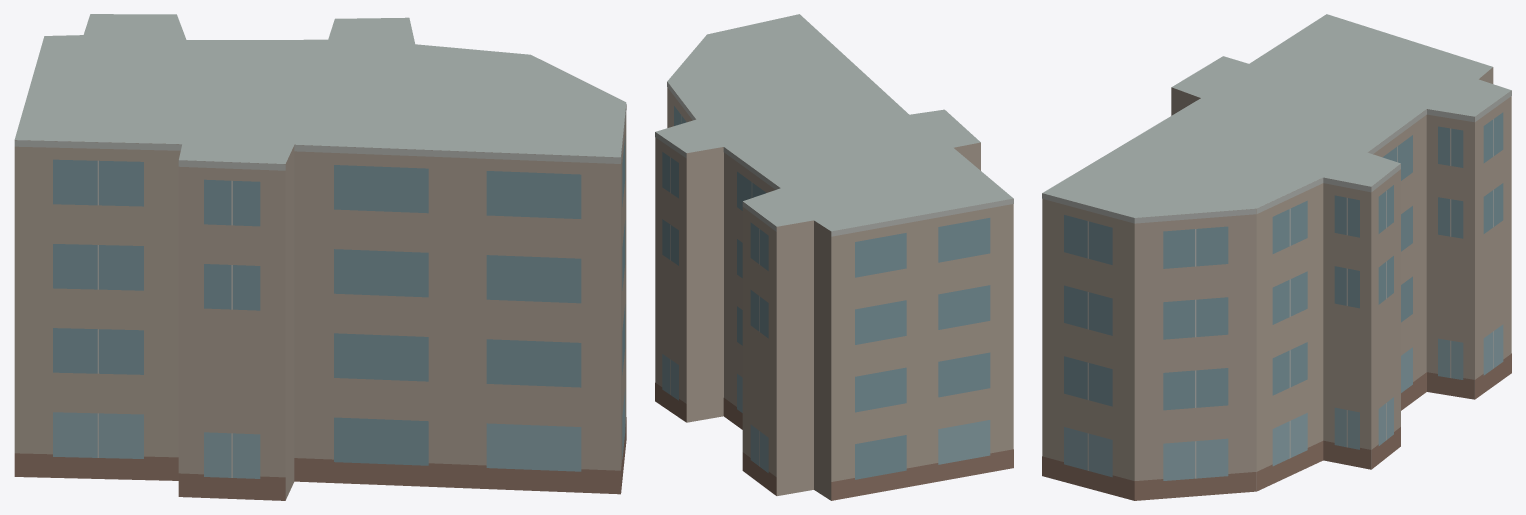
Rendered from survey-upis-32817212.glb.
3 views of the same model, side by side, from view 1: azimuth 30°, elevation 25°; view 2: azimuth 150°, elevation 25°; view 3: azimuth 270°, elevation 25° (orthographic). The views are drawn at different scales.
Parts seen in each view (by area): view 1: survey-upis-32817212.tmp; view 2: survey-upis-32817212.tmp; view 3: survey-upis-32817212.tmp.
Part boxes in pixels (left/top/right/bottom): survey-upis-32817212.tmp: left=14, top=14, right=626, bottom=500; survey-upis-32817212.tmp: left=655, top=14, right=1013, bottom=500; survey-upis-32817212.tmp: left=1042, top=14, right=1511, bottom=500.
Size of the model in its own units: 19.11 by 12.35 by 18.59.
